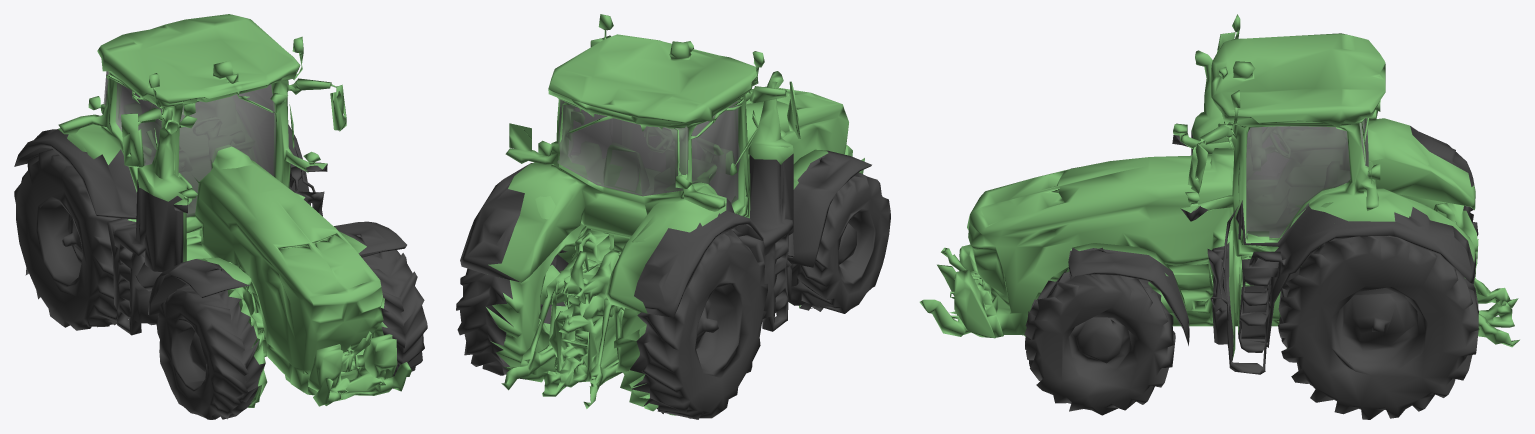
Rendered from john-deere-8r.glb.
3 views of the same model, side by side, from view 1: azimuth 30°, elevation 25°; view 2: azimuth 150°, elevation 25°; view 3: azimuth 270°, elevation 25° (orthographic). The views are drawn at different scales.
Size of the model in its own units: 2.82 by 3.71 by 6.45.
